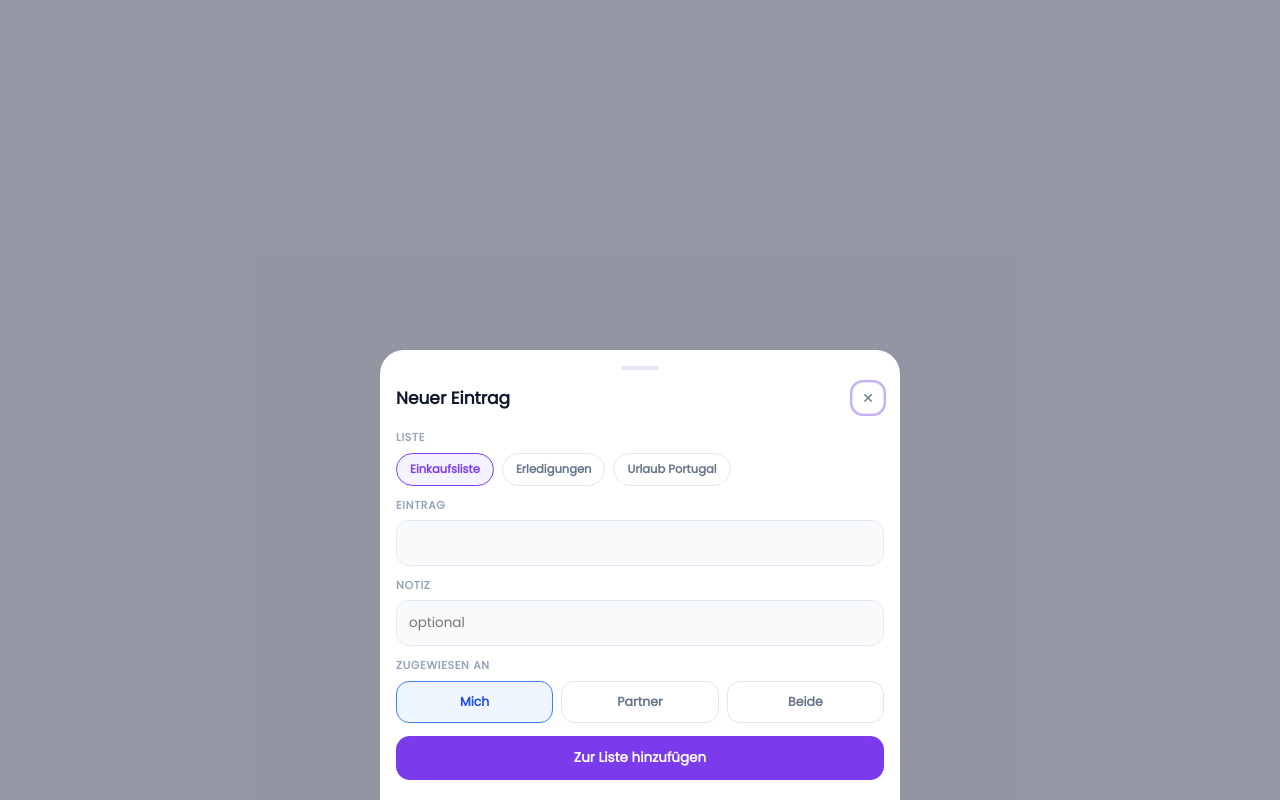
Test: TodoSheet › warnt bei einem erledigten Duplikat mit anderem Text
Type "Spülmaschinentabs" into the field labelled "Eintrag" at [640, 543], box [396,520,884,566]
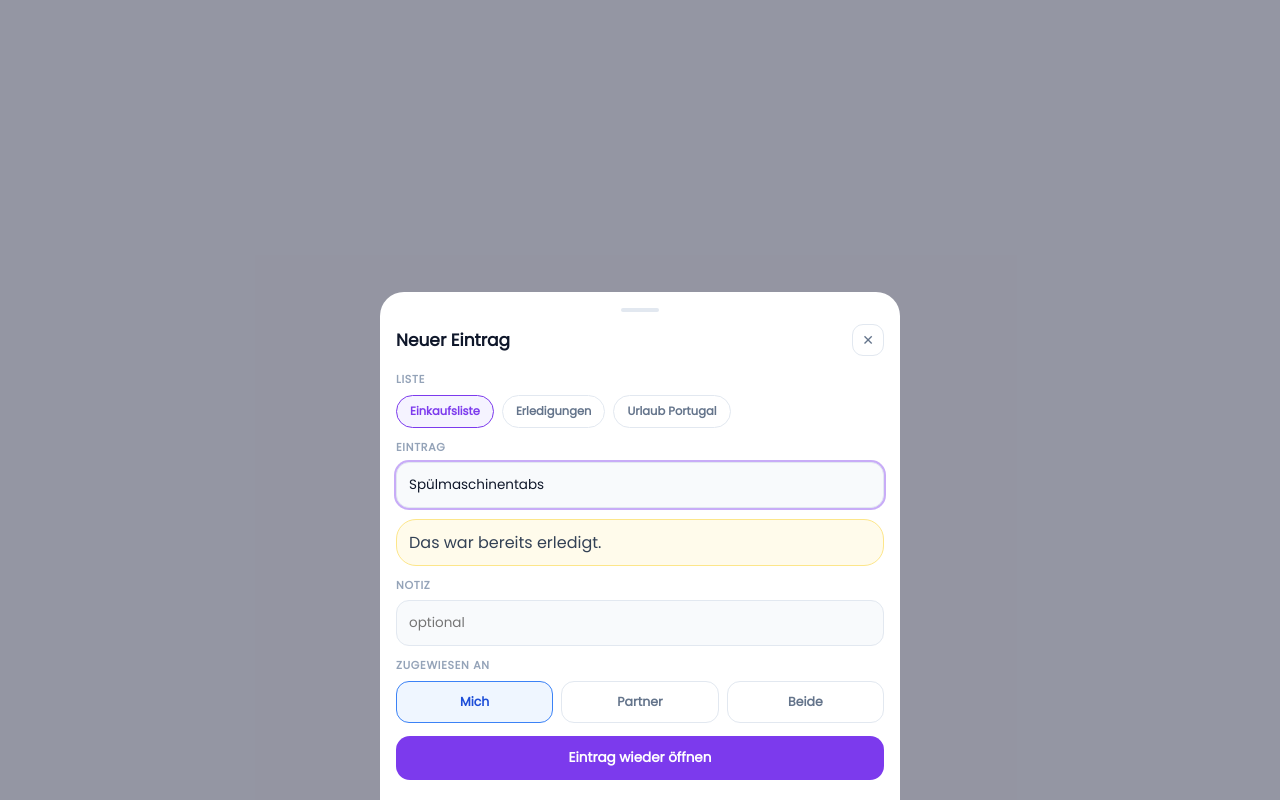
Result: the message shows "bereits erledigt" at [409,531,601,554]
Result: the button "Eintrag wieder öffnen" is shown at [396,736,884,780]
